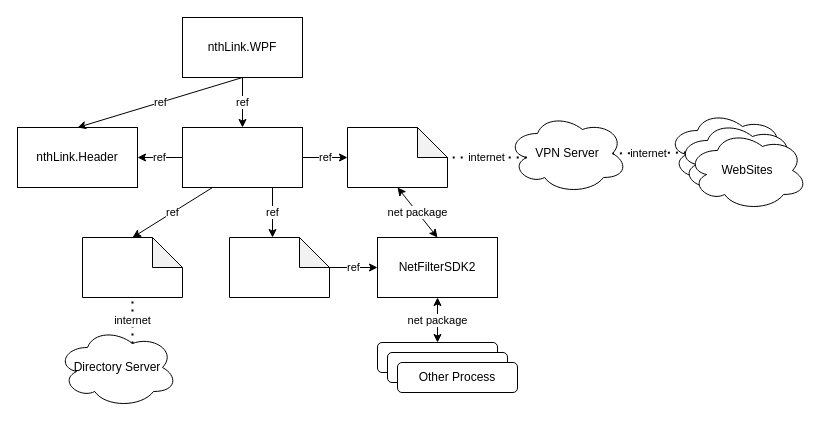
The diagram is 825 pixels wide and 425 high, and some of its shapes have lost their labels. The shapes that lost their labels are listed below. From the top down, each one's centre as x and y in pixels, then its label:
[242,157]: nthLink.SDK
[397,157]: leaf
[132,267]: root-Go
[279,267]: Redirector
